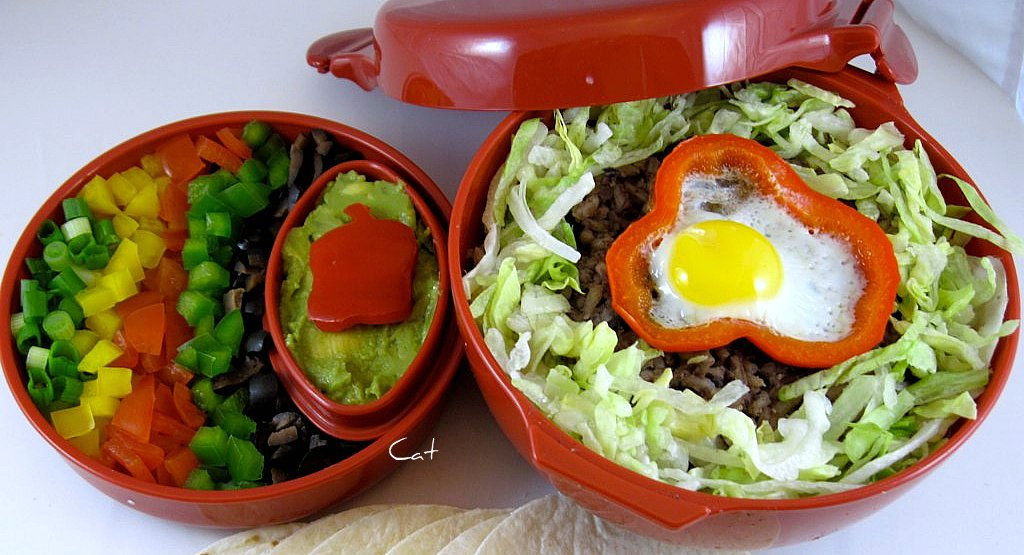chopped lettuce: (471, 308, 1006, 496), (794, 84, 993, 250), (478, 95, 625, 310)
fried egg: (648, 166, 888, 360)
